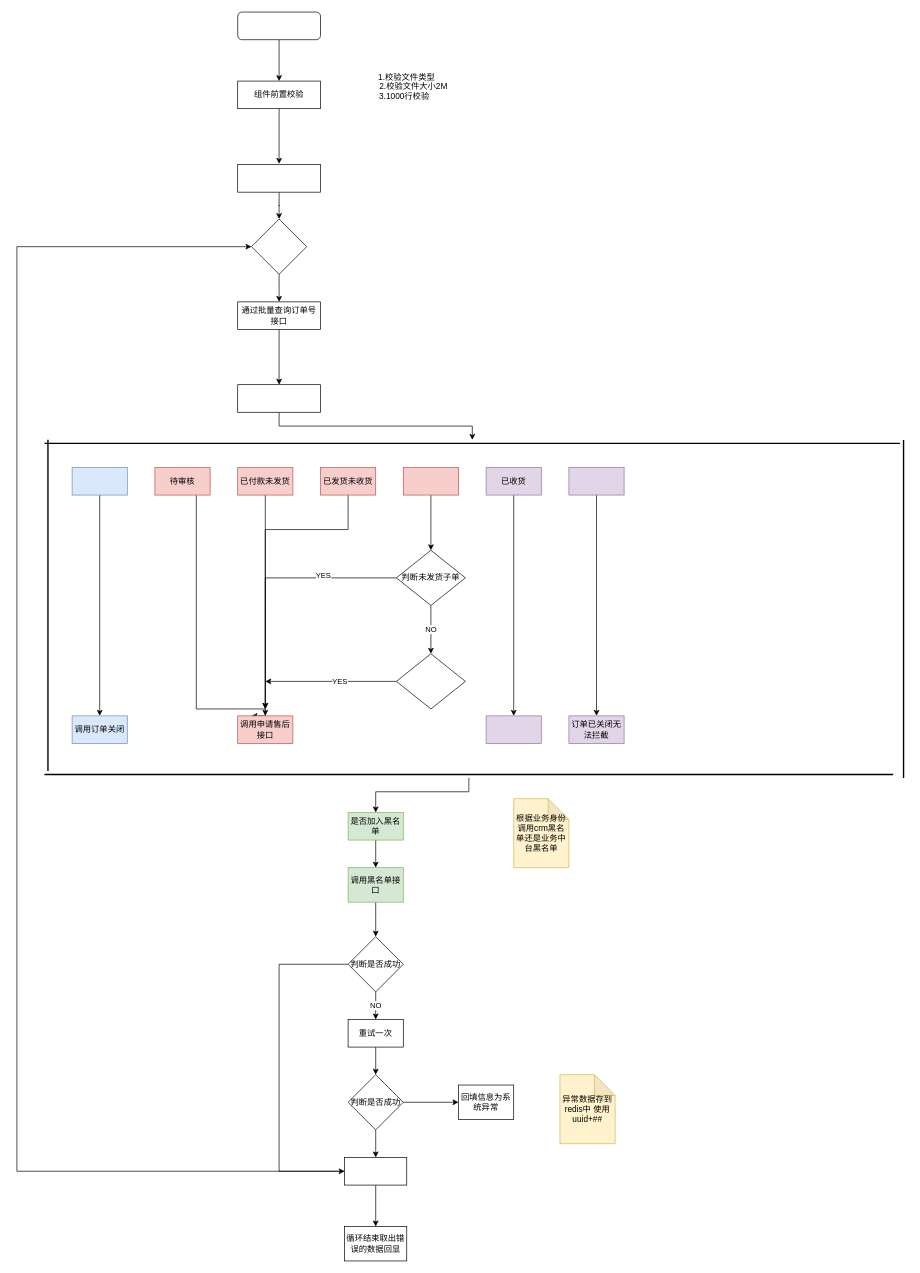
The diagram is 920 pixels wide and 1273 high, and some of its shapes have lost their labels. Here are the shapes that lost their labels. From the top down, the centre of each, then its label:
At point (279, 25): "纪元组件".
At point (279, 178): "数据分批（20）".
At point (279, 246): "数据循环处理".
At point (279, 398): "根据订单状态判断".
At point (99, 481): "未付款".
At point (431, 481): "部分发货".
At point (596, 481): "已关闭".
At point (430, 681): "判断已发货子单".
At point (513, 729): "买家已收货无法拦截".
At point (375, 1171): "继续循环".
